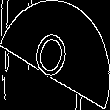O_SW: (33, 23, 77, 87)
